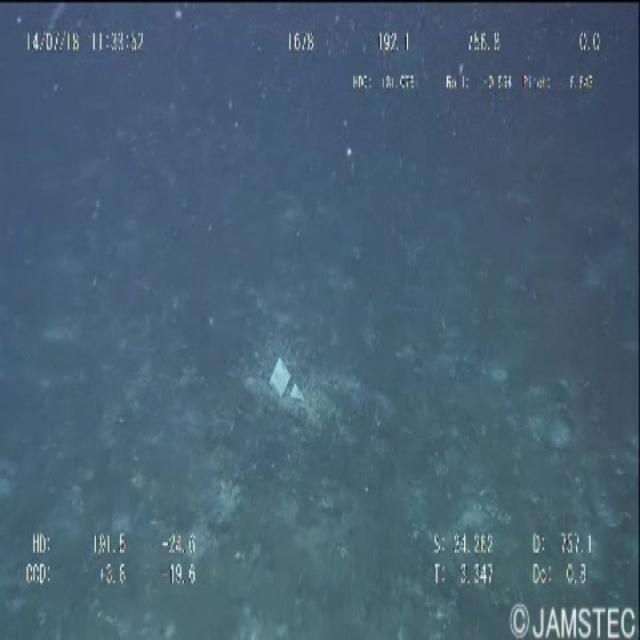Glass: (260, 346, 310, 423)
